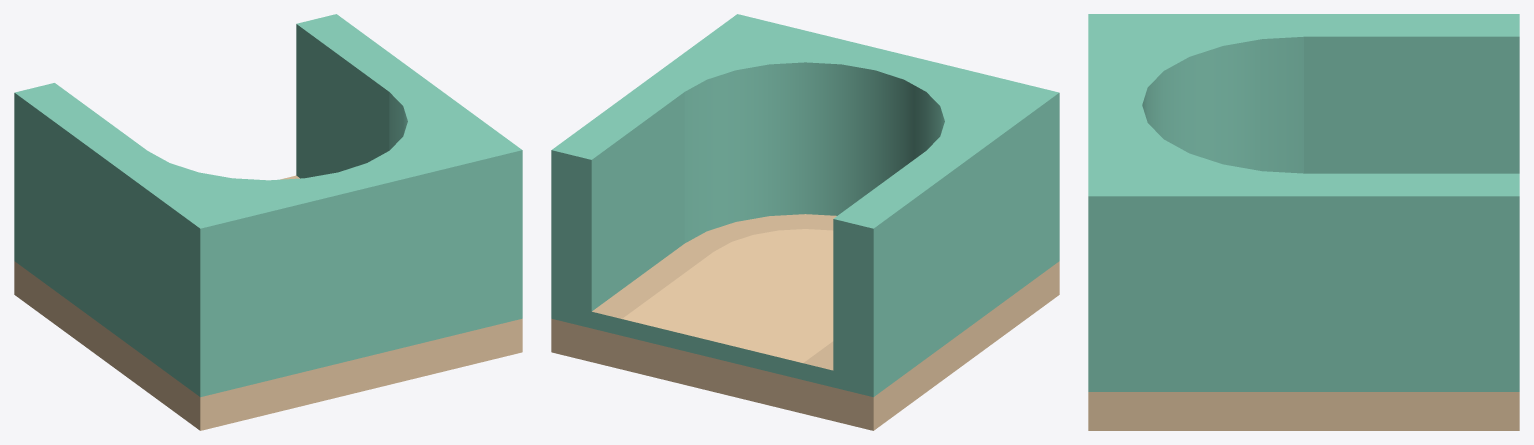
The model's file is RoundDeadEnd.fbx.
The picture shows the model from 3 angles, left to right: view 1: azimuth 30°, elevation 25°; view 2: azimuth 150°, elevation 25°; view 3: azimuth 270°, elevation 25°; orthographic projection. The views are drawn at different scales.
Parts seen in each view (by area): view 1: tile_endRound; view 2: tile_endRound; view 3: tile_endRound.
Boxes of the visible parts, x1,y1,x2,y2 form: tile_endRound: (14,14,522,430); tile_endRound: (551,14,1059,430); tile_endRound: (1088,14,1519,430).
Size of the model in its own units: 100 by 60 by 100.
